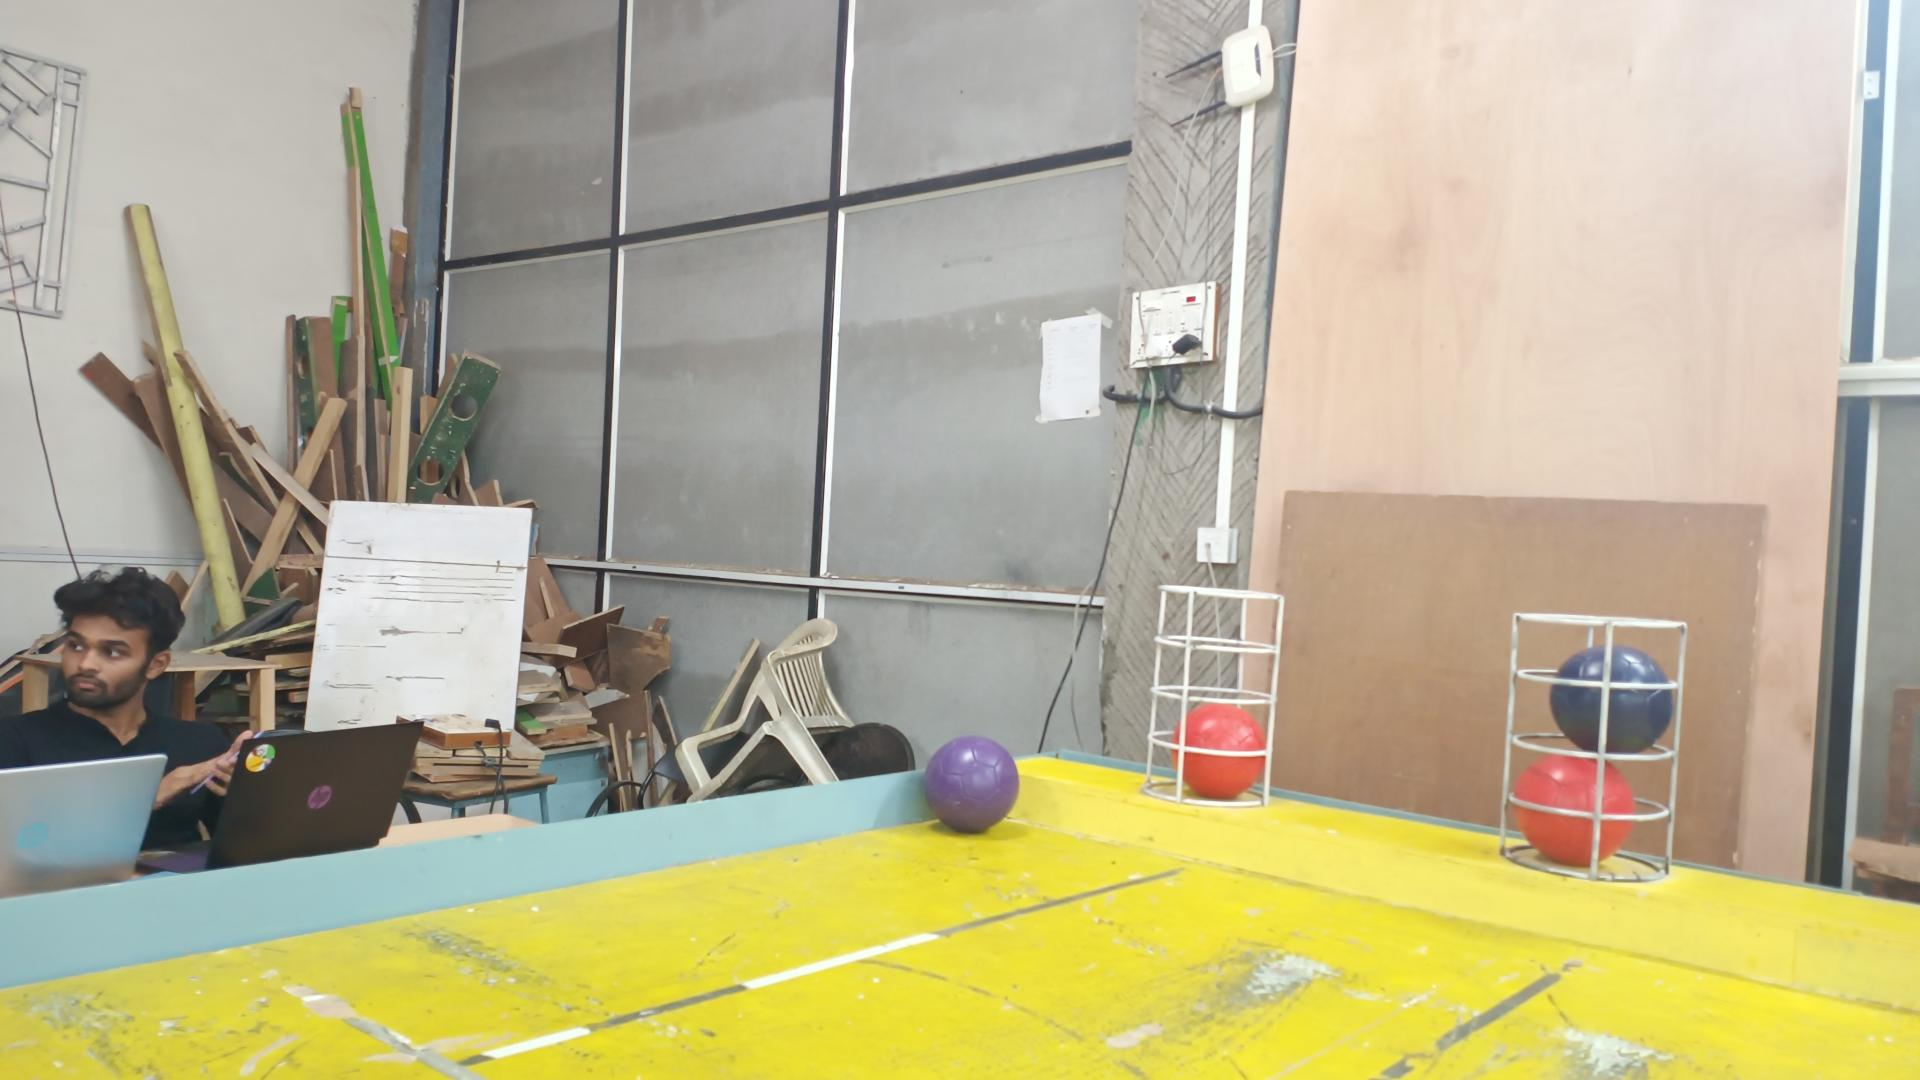dhoka: (1551, 645, 1675, 754)
laale: (1511, 756, 1635, 868), (1171, 703, 1269, 796)
